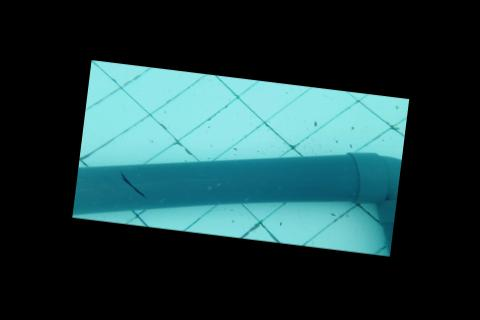keretakan: (115, 169, 150, 199)
